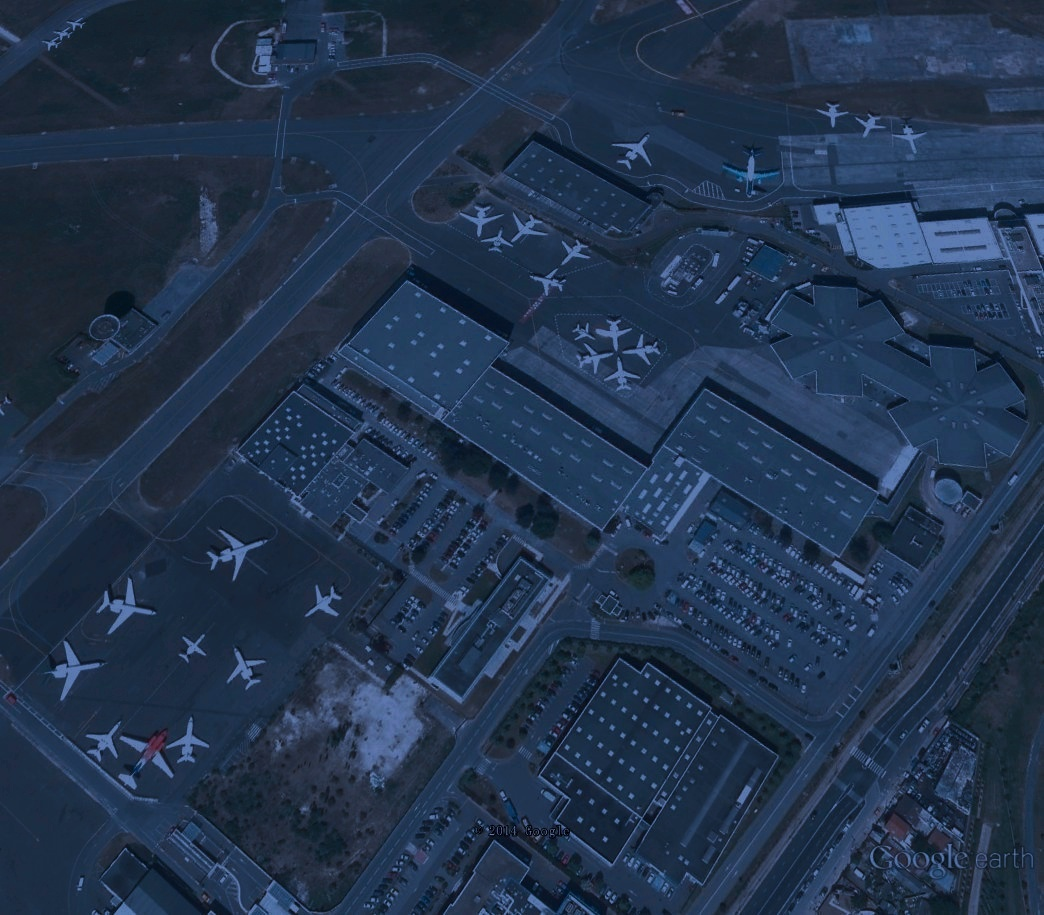aircraft: (116, 724, 180, 795), (95, 570, 158, 640), (204, 525, 274, 587), (47, 636, 108, 707), (717, 144, 787, 202), (222, 645, 270, 696), (168, 715, 212, 769), (80, 717, 127, 765), (606, 131, 656, 175), (453, 202, 509, 239), (615, 329, 668, 367), (601, 353, 645, 398), (302, 580, 347, 623), (506, 208, 553, 246), (571, 341, 618, 379), (594, 315, 635, 356), (890, 120, 932, 158), (528, 265, 569, 301), (476, 225, 515, 258), (558, 237, 596, 270), (853, 107, 890, 140), (176, 632, 210, 667), (815, 102, 851, 132), (570, 319, 597, 345), (65, 16, 91, 31), (39, 35, 63, 51), (51, 27, 74, 42)
